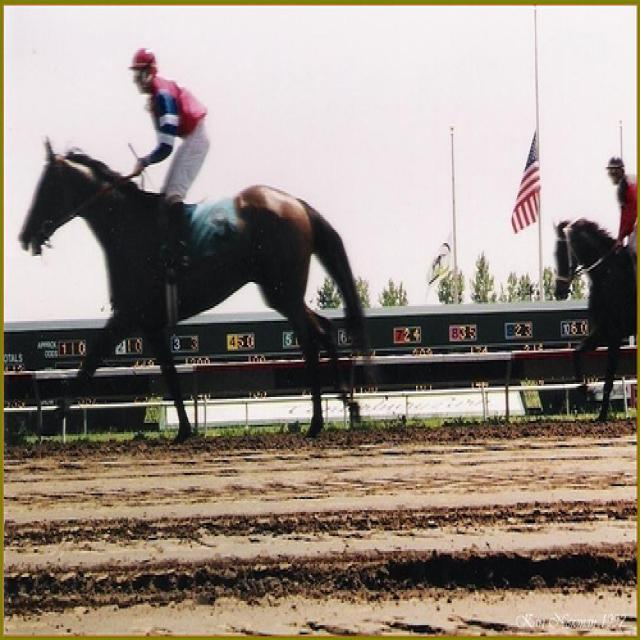horse: (18, 135, 371, 445), (551, 218, 640, 424)
person: (126, 47, 211, 285), (605, 155, 640, 257)
